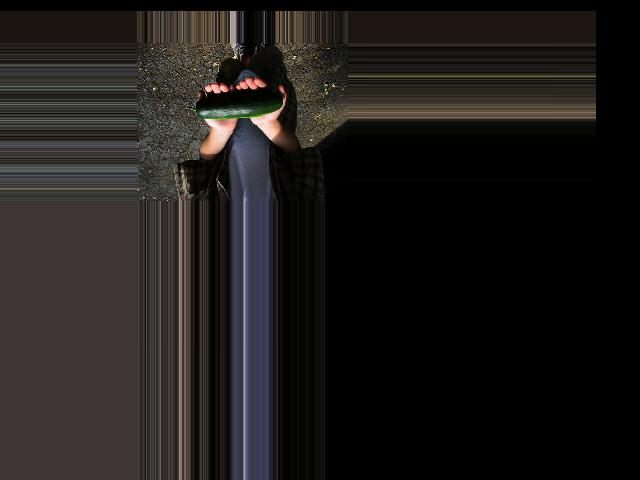cucumber: (184, 90, 281, 118)
